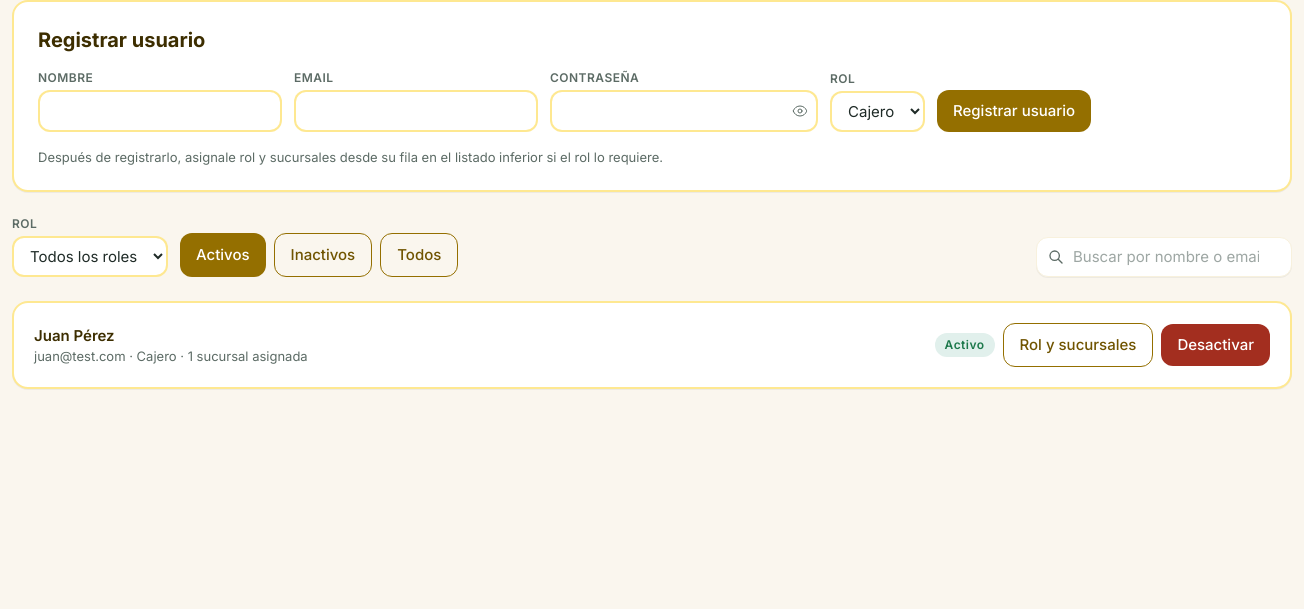
it: Usuarios › abre el formulario de rol y sucursales con el sucursal_ids REAL del usuario ya marcado, nunca vacío (RN-AD-002/003)
Click the button "Rol y sucursales" at (1078, 345), box [1002, 323, 1153, 367]
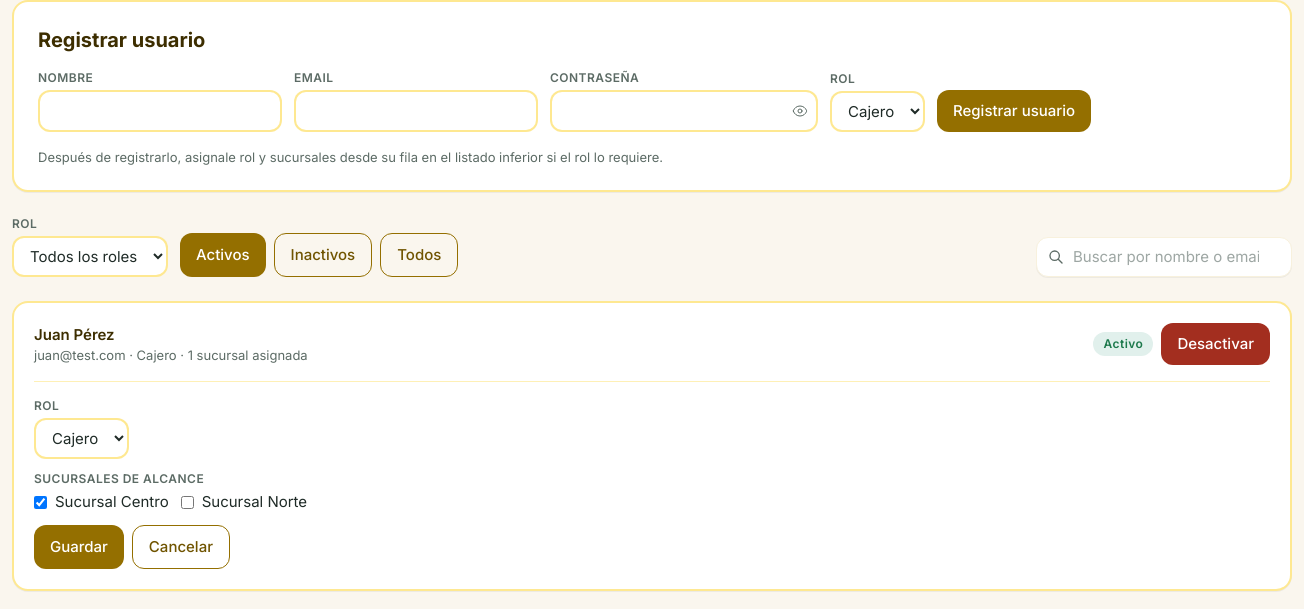
Expected: the checkbox labelled "Sucursal Centro" is checked, [34, 496, 47, 508]
Expected: the checkbox labelled "Sucursal Norte" is not checked, [181, 496, 194, 508]
